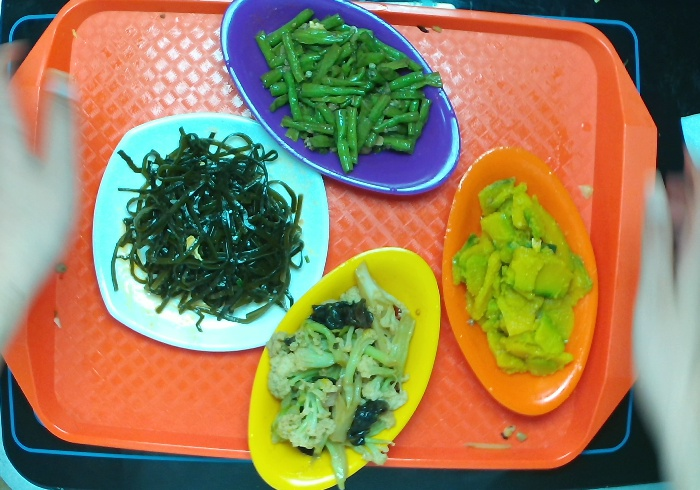RJxy-Fen_Hong_Tuo_Yuan: (217, 1, 467, 200)
RJxy-Huang_Se_Tuo_Yuan: (244, 243, 446, 490)
RJxy-Ju_Huang_Tuo_Yuan: (436, 141, 605, 421)
RJxy-Si_Fang_Die: (88, 109, 340, 355)
